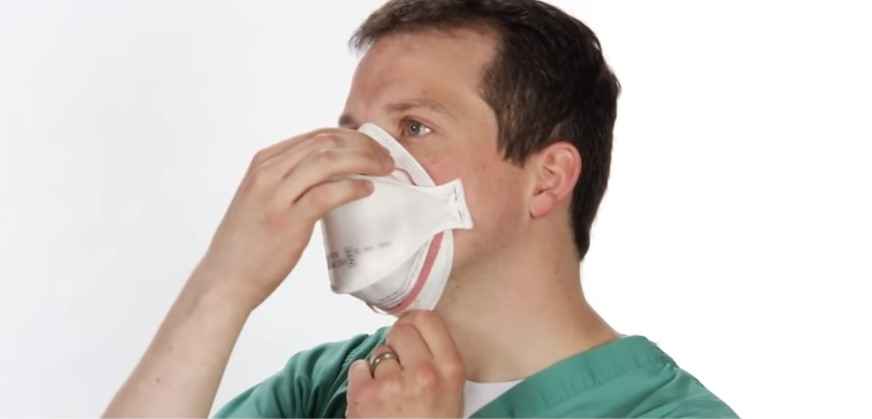face_with_mask: (313, 6, 578, 320)
